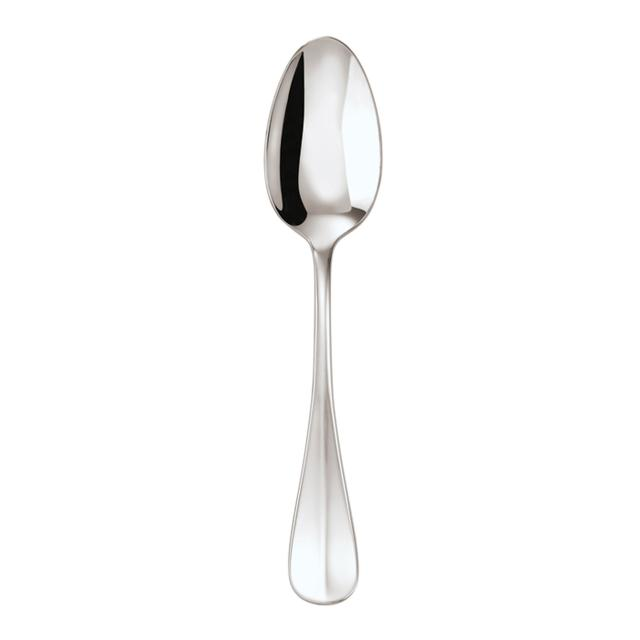spoon: (247, 22, 394, 619)
